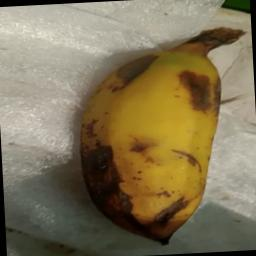Banana Overripe: (69, 6, 256, 249)
